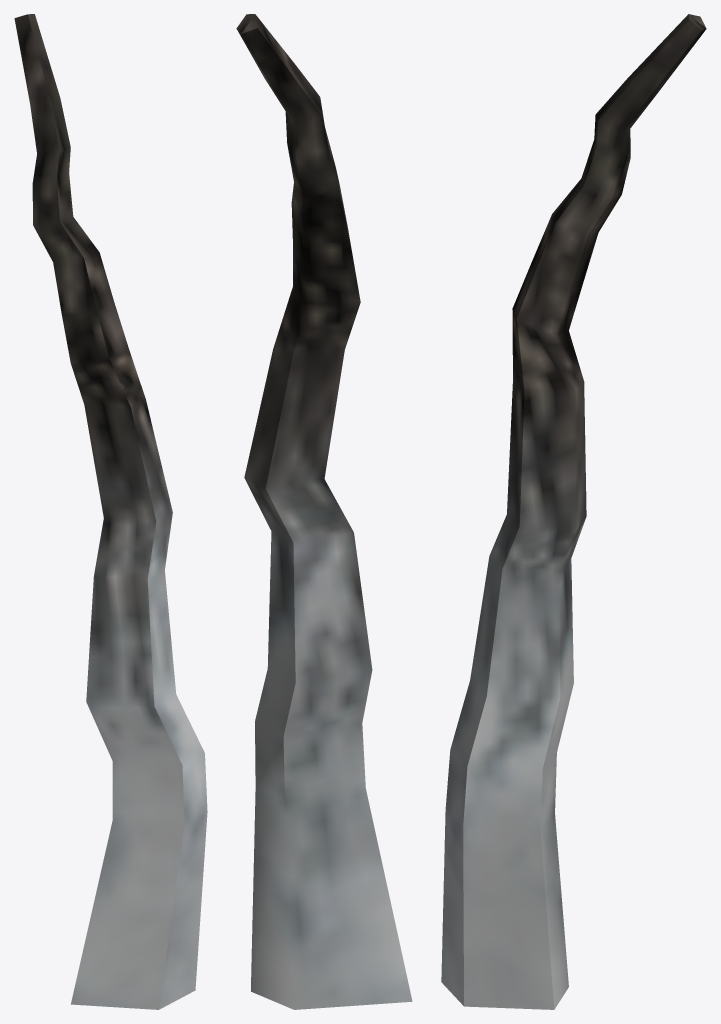
The model's file is snow_v_a01c.fbx.
3 renders of one model, left to right at view 1: azimuth 30°, elevation 25°; view 2: azimuth 150°, elevation 25°; view 3: azimuth 270°, elevation 25°, orthographic. The views are drawn at different scales.
Visible parts, largest first — view 1: v_a01c; view 2: v_a01c; view 3: v_a01c.
Boxes of the visible parts, bbox=[...] form: v_a01c: bbox=[14, 14, 207, 1009]; v_a01c: bbox=[236, 14, 412, 1009]; v_a01c: bbox=[441, 14, 706, 1009].
Bounding box in the file's own units: 7.31 × 53.36 × 13.34.
